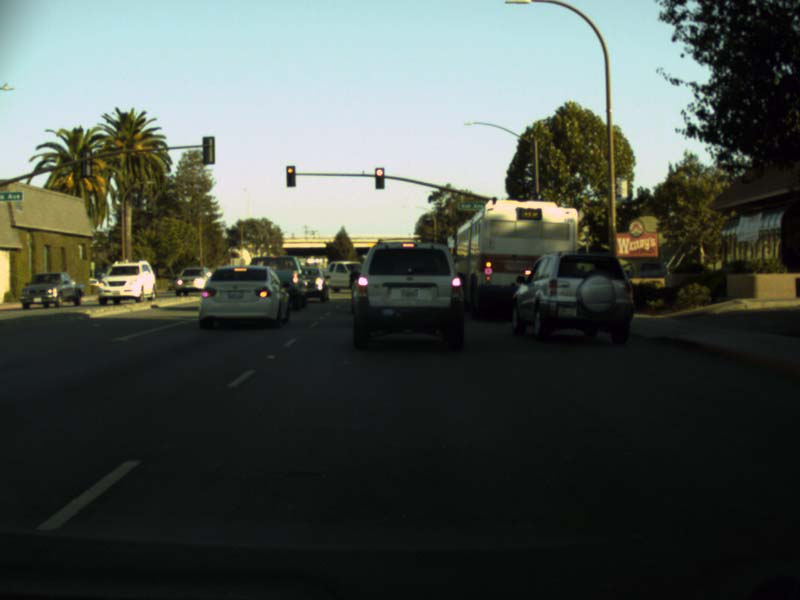Red: (285, 164, 296, 187), (375, 168, 383, 188)
